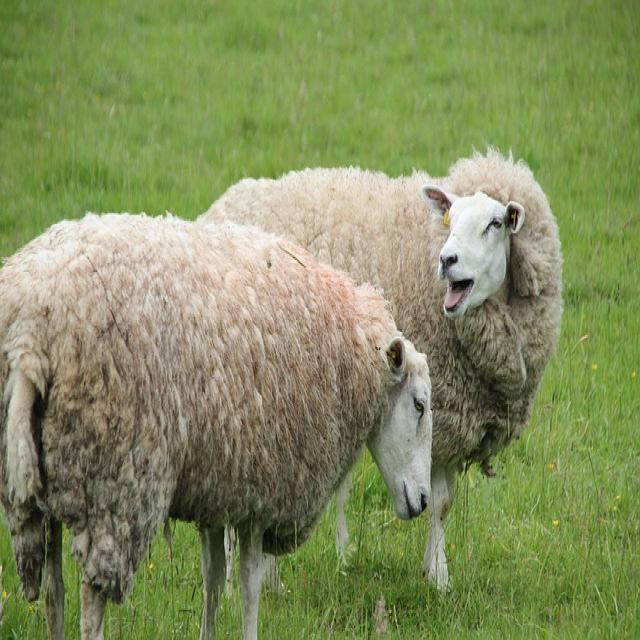goat: (0, 213, 434, 640), (199, 152, 564, 590)
